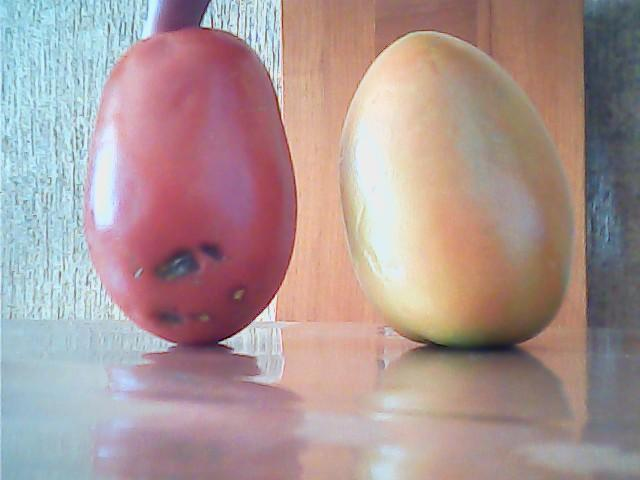defectuoso: (84, 24, 299, 351)
verde: (338, 30, 572, 353)
